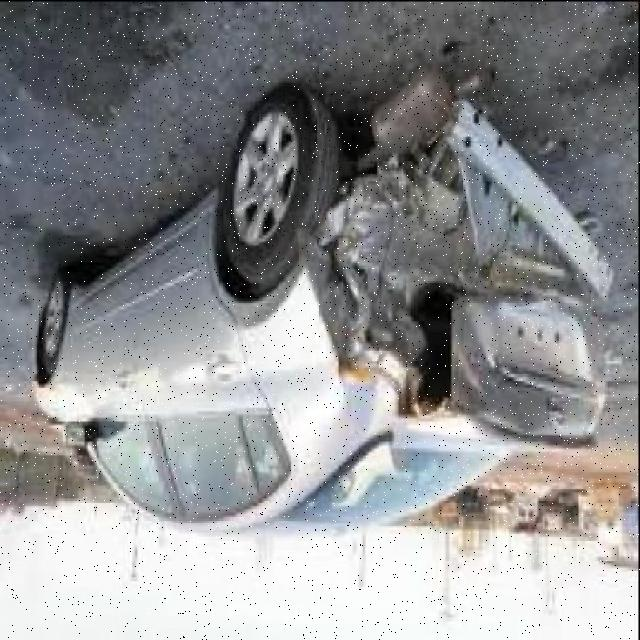damage: (294, 103, 618, 434)
